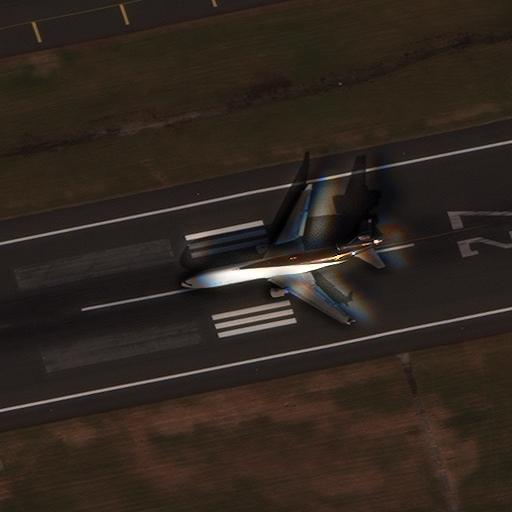Large Civil Transport: (180, 189, 382, 323)
